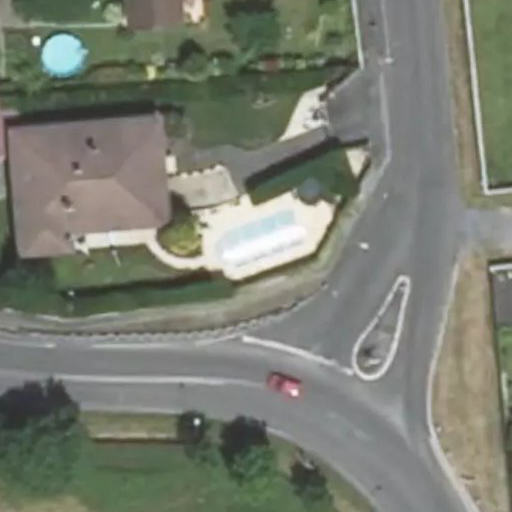pool: (205, 242, 302, 247)
